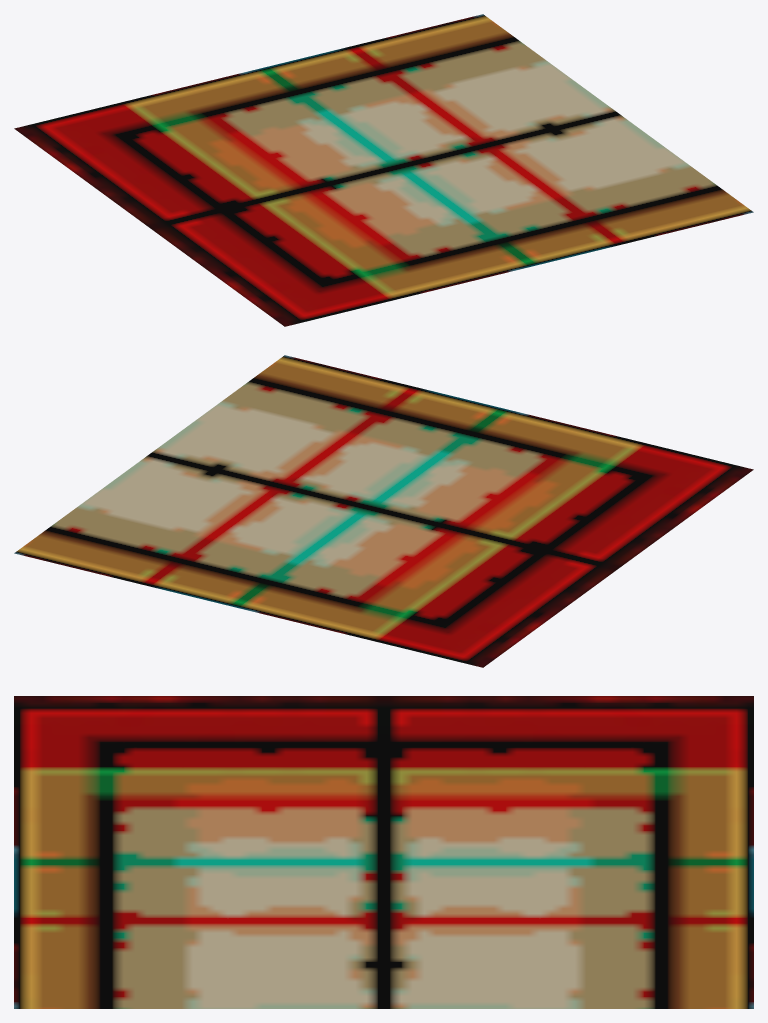
The model's file is arch_cathedral_floorEdge_3lines.FBX.
The picture shows the model from 3 angles, top to bottom: view 1: azimuth 30°, elevation 25°; view 2: azimuth 150°, elevation 25°; view 3: azimuth 270°, elevation 25°; orthographic projection. The views are drawn at different scales.
Visible parts, largest first — view 1: arch_cathedral_floorEdge_3lines; view 2: arch_cathedral_floorEdge_3lines; view 3: arch_cathedral_floorEdge_3lines.
Part boxes in pixels (box(x1,y1,x2,y2)): arch_cathedral_floorEdge_3lines: box(14, 14, 753, 326); arch_cathedral_floorEdge_3lines: box(14, 355, 753, 667); arch_cathedral_floorEdge_3lines: box(14, 696, 753, 1008).
Size of the model in its own units: 2 by 8.74e-08 by 2.
1 material, 1 textured.
